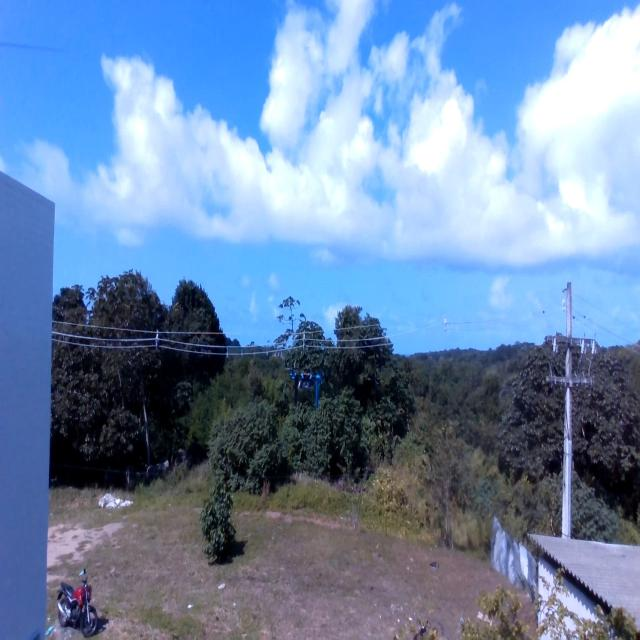-uav-: (286, 361, 327, 415)
